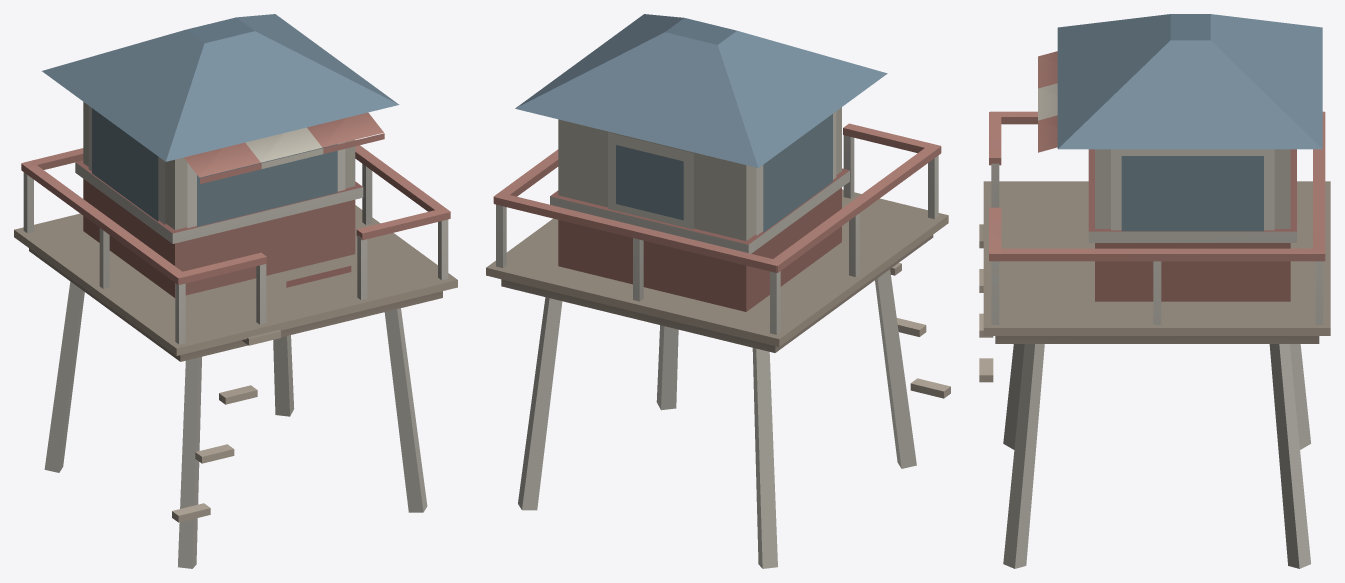
The model's file is tower.lod2.glb.
3 views of the same model, side by side, from view 1: azimuth 30°, elevation 25°; view 2: azimuth 150°, elevation 25°; view 3: azimuth 270°, elevation 25° (orthographic). The views are drawn at different scales.
Bounding box in the file's own units: 3.9 × 5.93 × 3.95.
